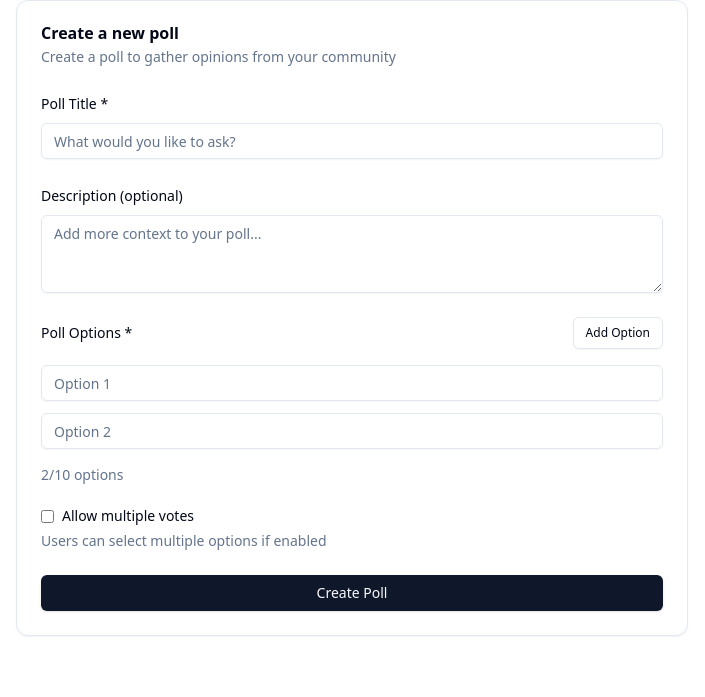
Test: CreatePollForm › Form Submission › shows error message on failed creation
The image size is (705, 697).
# Fill in form
In the field labelled "Poll Title *": (352, 141) [41,123,663,159], type "Test Poll"
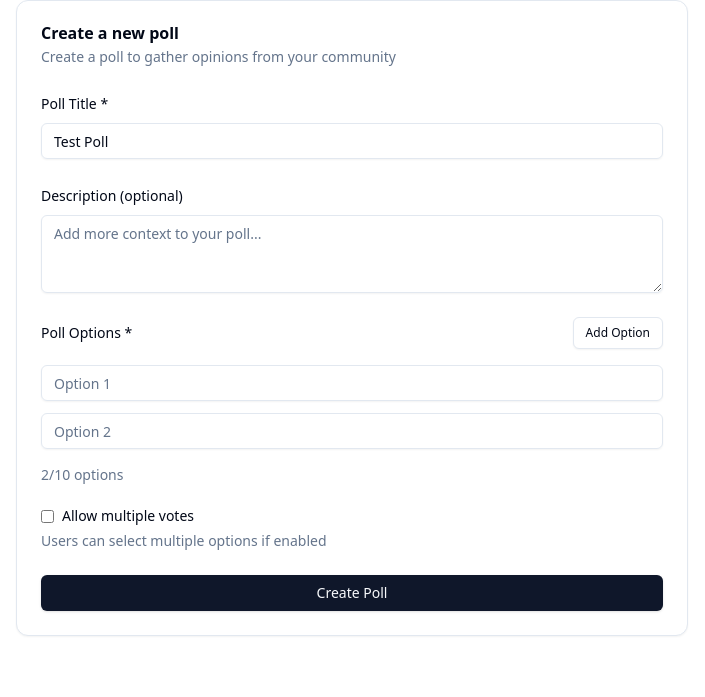
In the field with placeholder "Option 1": (352, 383) [41,365,663,401], type "Option A"
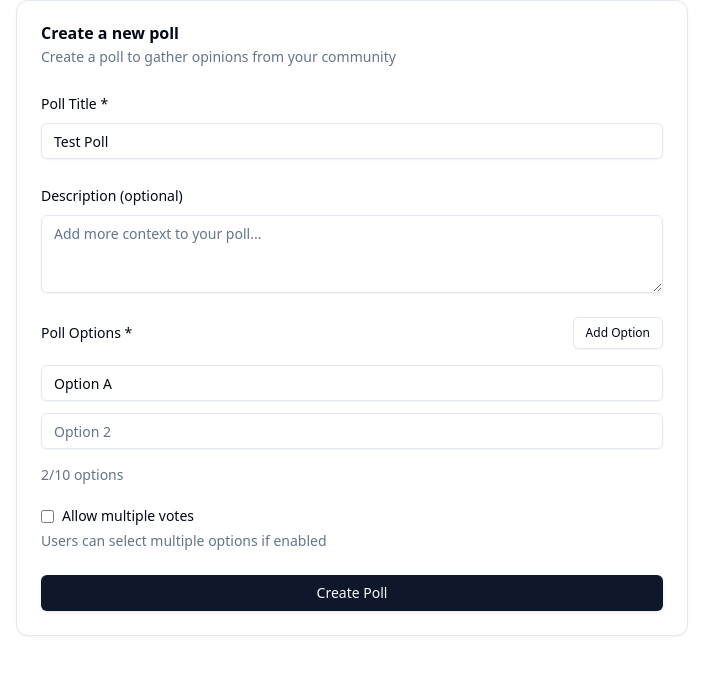
In the field with placeholder "Option 2": (352, 431) [41,413,663,449], type "Option B"
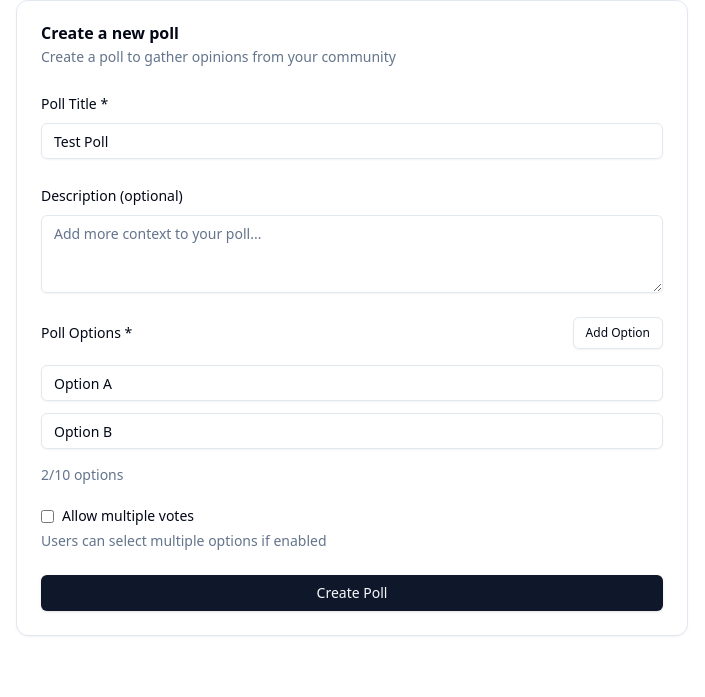
Click the button "Create Poll": (352, 593) [41,575,663,611]
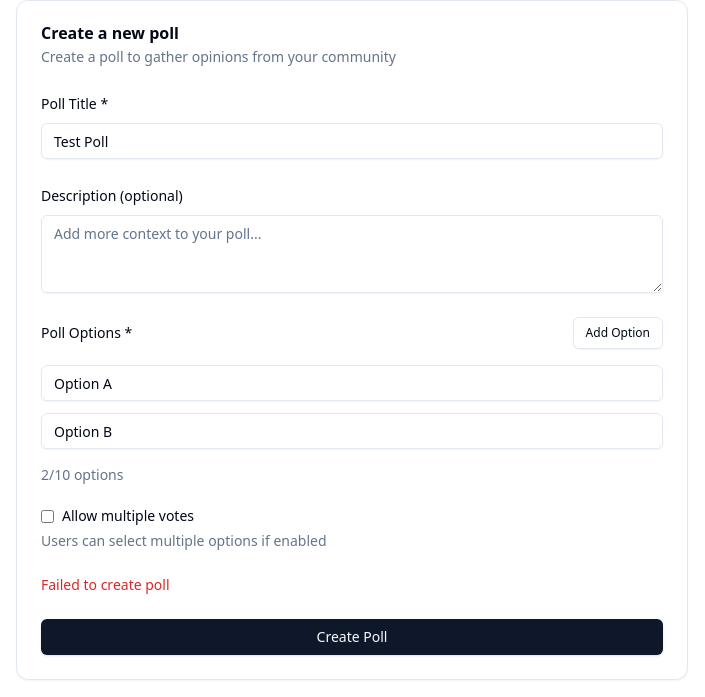
Expected: the text "Failed to create poll" is shown, [41,575,170,594]
